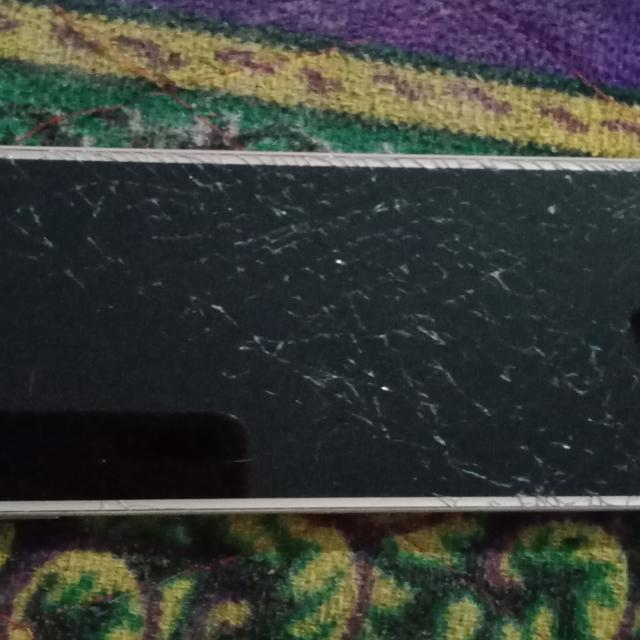Crack: (9, 156, 638, 499)
